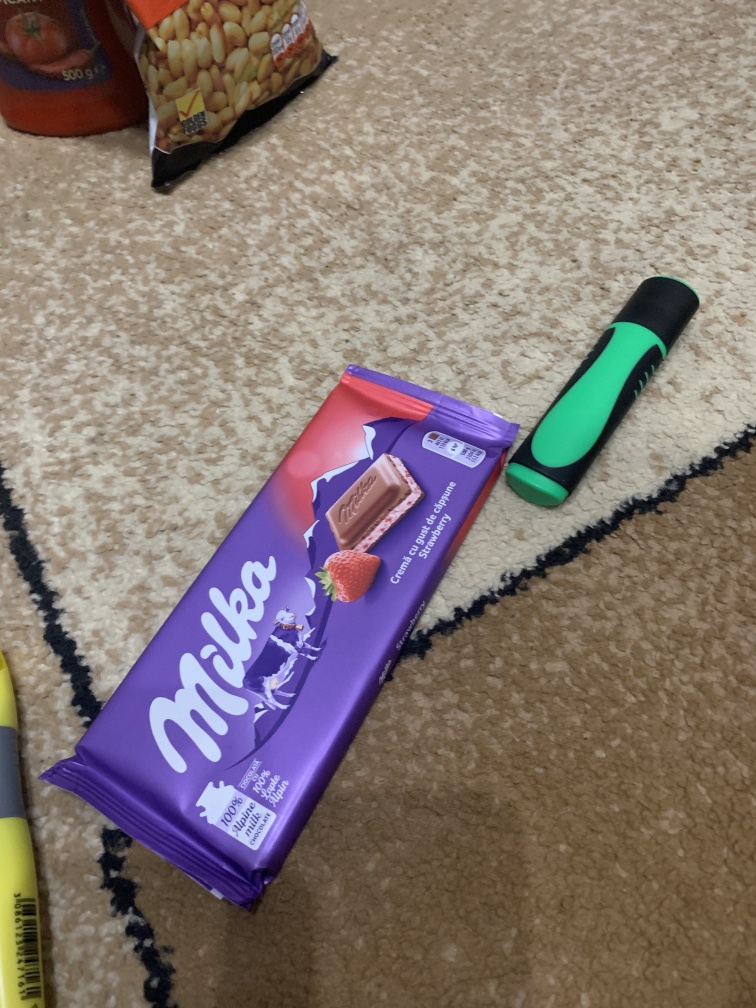milka: (38, 344, 528, 922)
